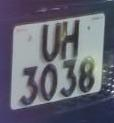0: (39, 60, 61, 104)
3: (16, 59, 42, 110), (58, 57, 80, 99)
8: (77, 55, 98, 95)
H: (56, 16, 81, 61)
U: (39, 19, 62, 66)
